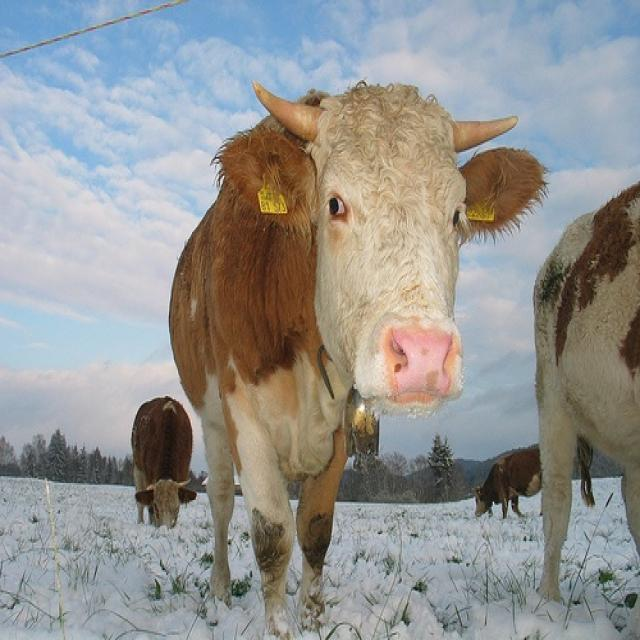cow: (201, 72, 557, 633), (531, 169, 639, 619), (127, 392, 196, 542), (468, 428, 562, 536)
